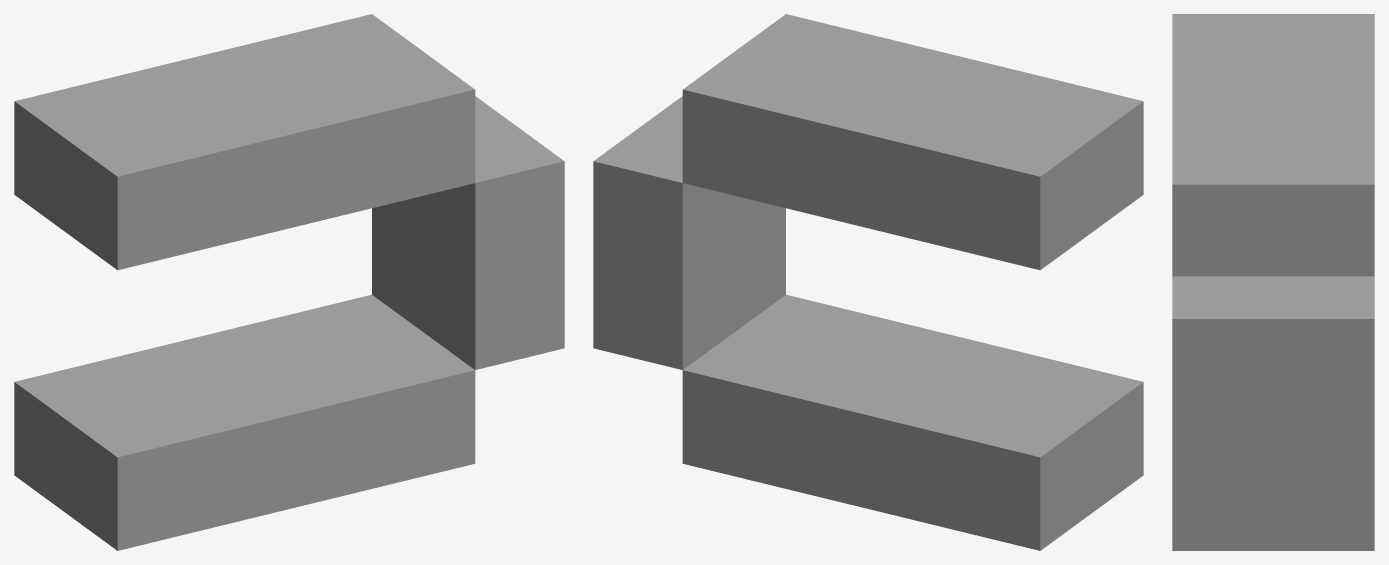
The model's file is Robot_vox-1-12.obj.
The picture shows the model from 3 angles, left to right: view 1: azimuth 30°, elevation 25°; view 2: azimuth 150°, elevation 25°; view 3: azimuth 270°, elevation 25°; orthographic projection. The views are drawn at different scales.
Bounding box in the file's own units: 0.5 × 0.4 × 0.2.
1 material, 1 textured.
